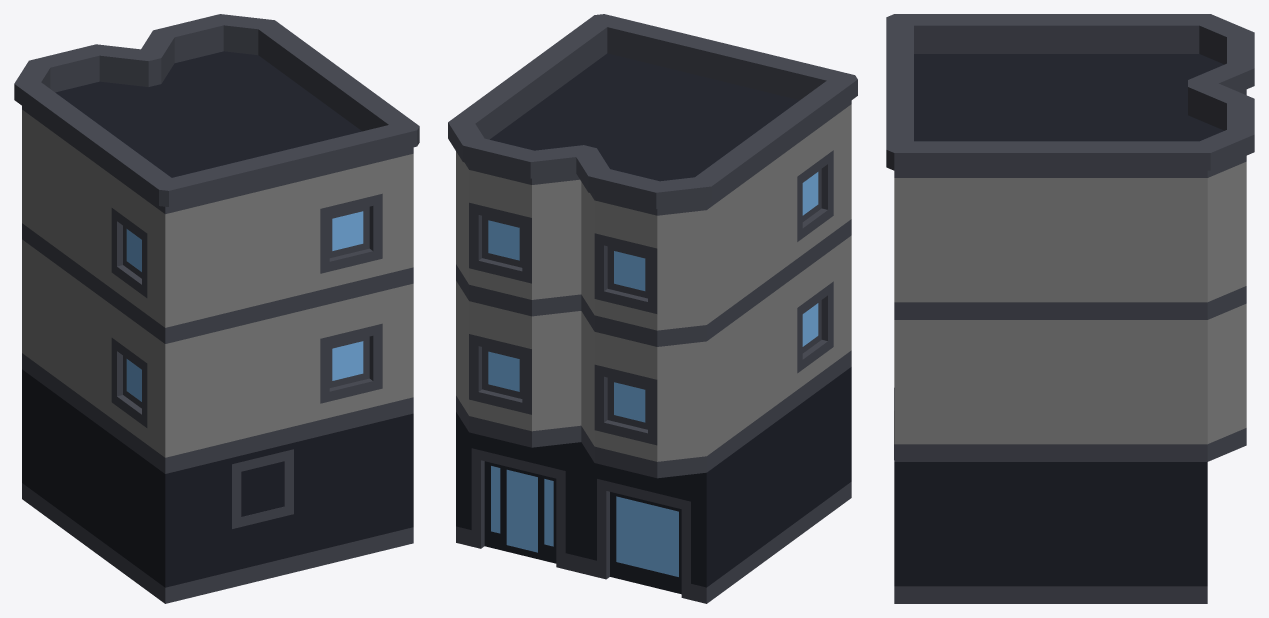
Rendered from variant_9.obj.
The picture shows the model from 3 angles, left to right: view 1: azimuth 30°, elevation 25°; view 2: azimuth 150°, elevation 25°; view 3: azimuth 270°, elevation 25°; orthographic projection. The views are drawn at different scales.
Parts seen in each view (by area): view 1: Building, Building_copy, Window_copy; view 2: Building; view 3: Building.
Part boxes in pixels (x1,y1,x2,y2): Building: (14,14,419,603); Building_copy: (165,415,413,587); Window_copy: (232,449,293,528); Building: (448,14,857,603); Building: (886,14,1254,603).
Bounding box in the file's own units: 0.84 × 1.28 × 0.94.
